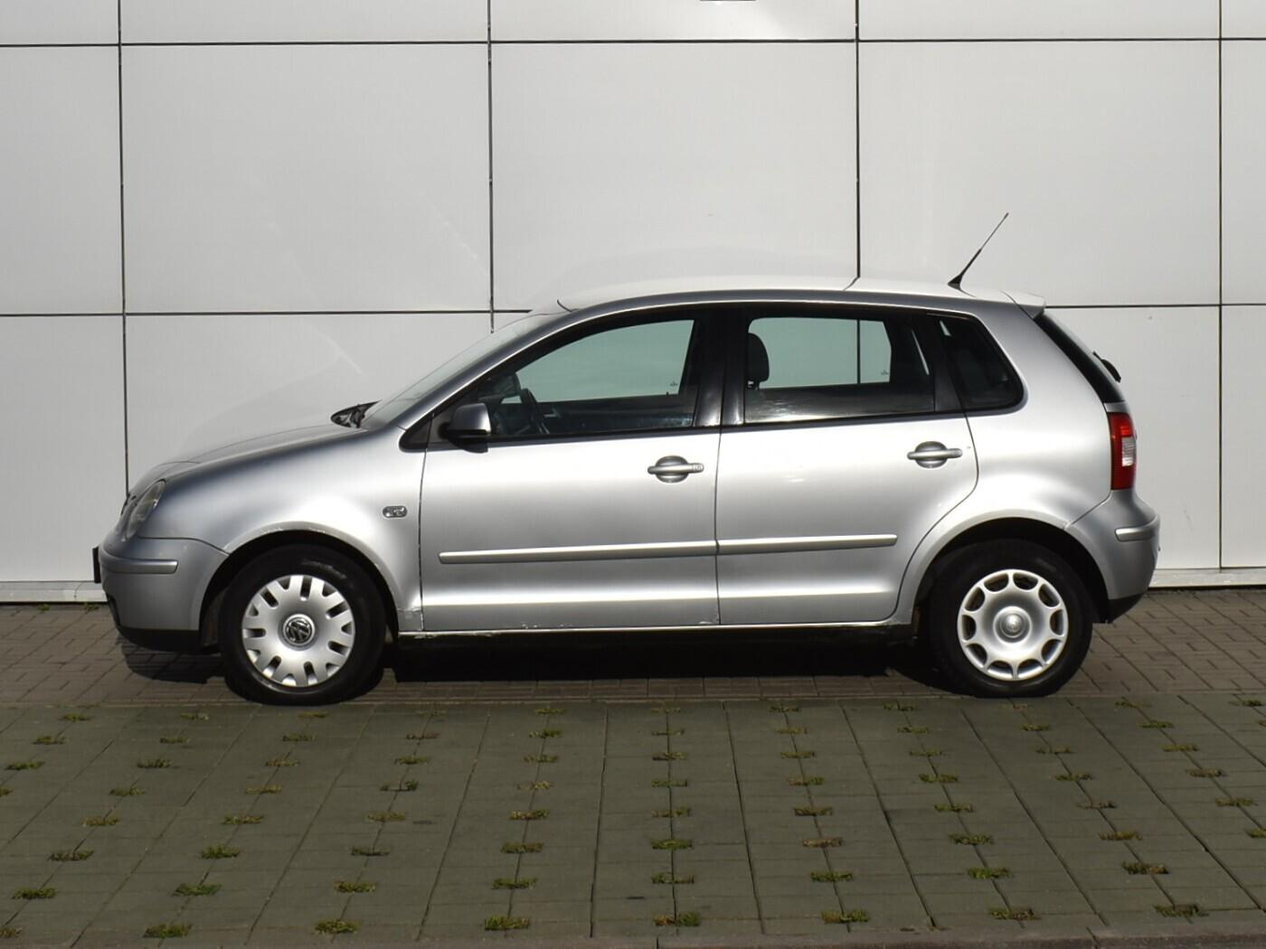Polo_2001-2005: (65, 270, 1151, 741)
